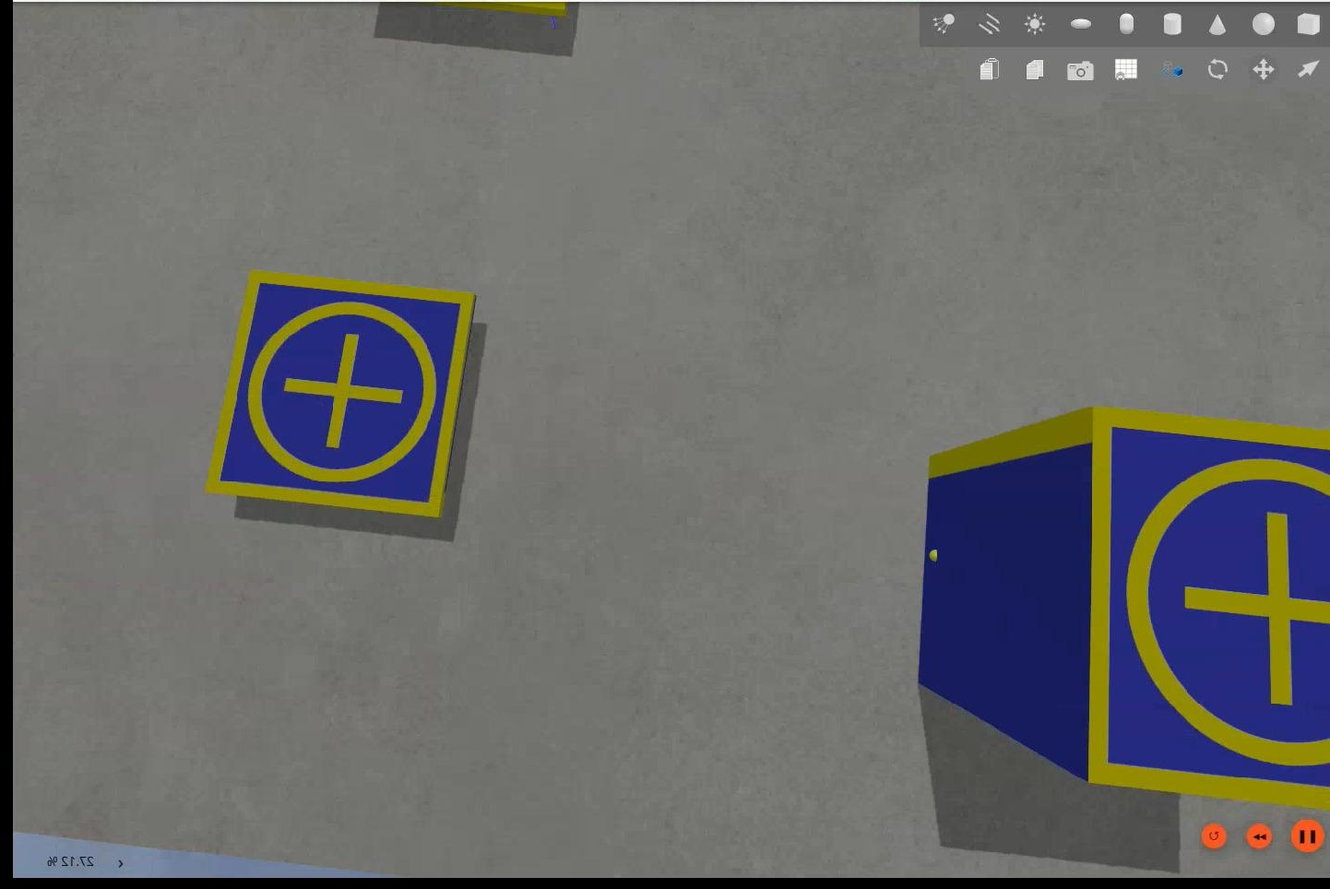small_base: (1083, 408, 1328, 816), (203, 271, 478, 523)
